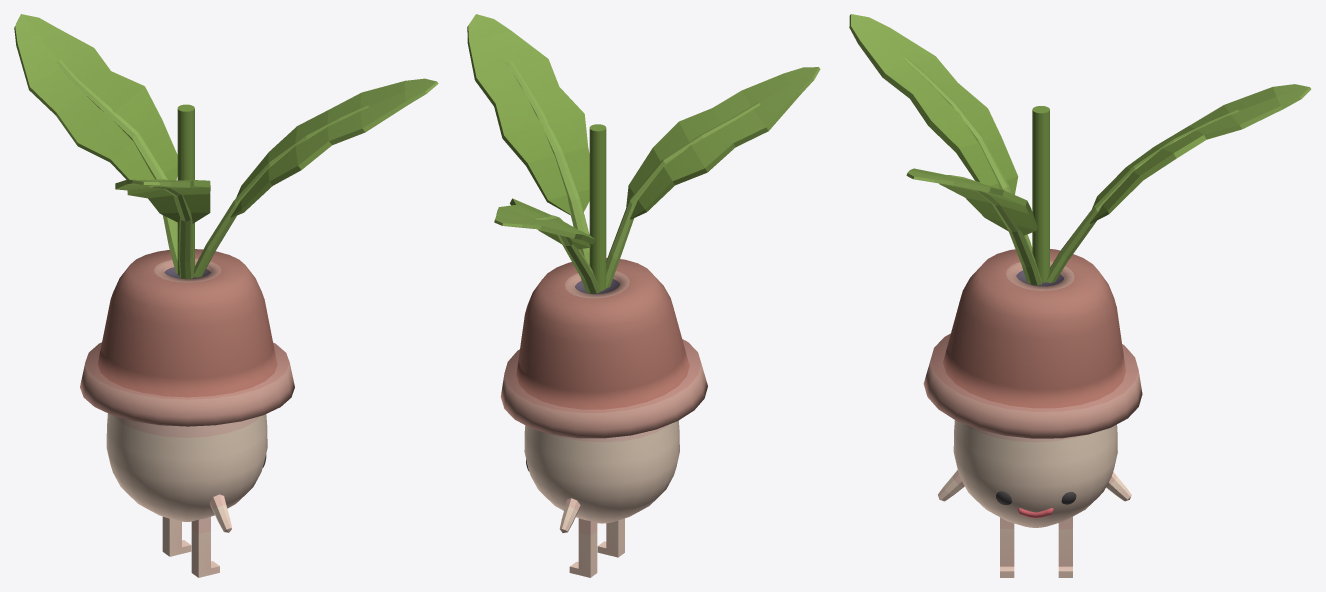
Rendered from plantEdit.glb.
3 views of the same model, side by side, from view 1: azimuth 30°, elevation 25°; view 2: azimuth 150°, elevation 25°; view 3: azimuth 270°, elevation 25° (orthographic). The views are drawn at different scales.
Parts seen in each view (by area): view 1: Sphere_0, Cylinder; view 2: Sphere_0, Cylinder; view 3: Sphere_0, Cylinder.
Boxes of the visible parts, <box> form: Sphere_0: <box>14,14,438,577</box>; Cylinder: <box>177,104,194,275</box>; Sphere_0: <box>467,14,820,577</box>; Cylinder: <box>589,124,606,291</box>; Sphere_0: <box>849,14,1311,577</box>; Cylinder: <box>1032,106,1049,282</box>.
Size of the model in its own units: 3.67 by 5.12 by 4.38.
Materials: 2 (1 with a texture image).
